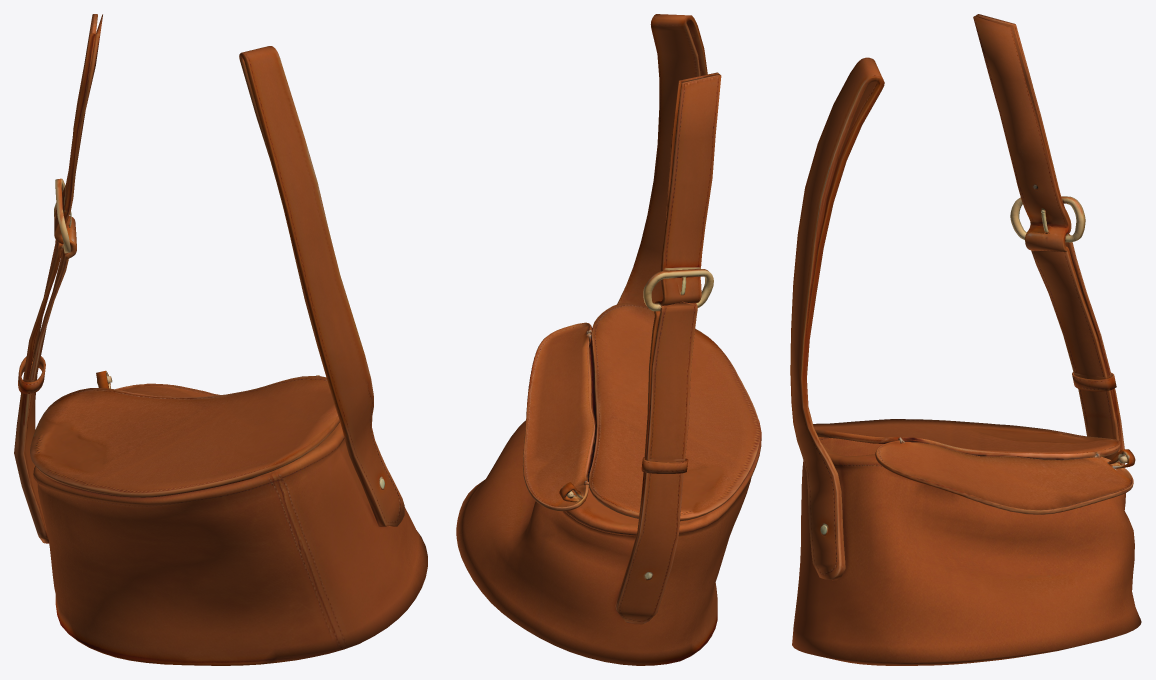
The model's file is sac-metal-nature.glb.
3 renders of one model, left to right at view 1: azimuth 30°, elevation 25°; view 2: azimuth 150°, elevation 25°; view 3: azimuth 270°, elevation 25°, orthographic. The views are drawn at different scales.
Visible parts, largest first — view 1: tripo_node_342c31e3-8a1c-41d7-b7b2-391216362d2a; view 2: tripo_node_342c31e3-8a1c-41d7-b7b2-391216362d2a; view 3: tripo_node_342c31e3-8a1c-41d7-b7b2-391216362d2a.
Boxes of the visible parts, box(x1,y1,x2,y2) form: tripo_node_342c31e3-8a1c-41d7-b7b2-391216362d2a: box(14, 14, 427, 665); tripo_node_342c31e3-8a1c-41d7-b7b2-391216362d2a: box(456, 14, 761, 665); tripo_node_342c31e3-8a1c-41d7-b7b2-391216362d2a: box(790, 14, 1141, 665).
Bounding box in the file's own units: 0.5356 × 0.9995 × 0.5396.
Materials: 1 (1 with a texture image).
